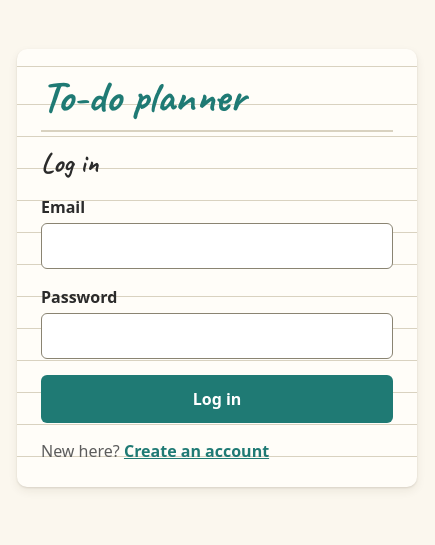
Test: US2 Log in / log out › shows a friendly message when rate limited (429)
Type "sam@example.com" into the field labelled "Email".
click(217, 246); type("sam@example.com")  # box [41,223,393,269]
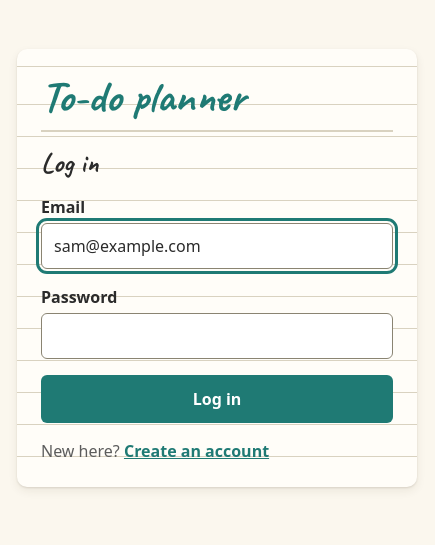
Type "x" into the password field labelled "Password".
click(217, 336); type("x")  # box [41,313,393,359]
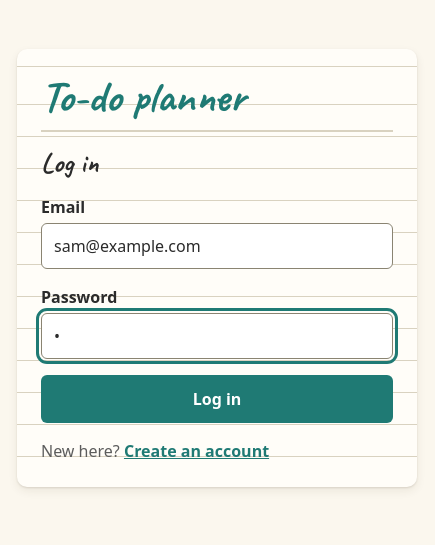
Click the button "Log in".
click(217, 399)  # box [41,375,393,423]
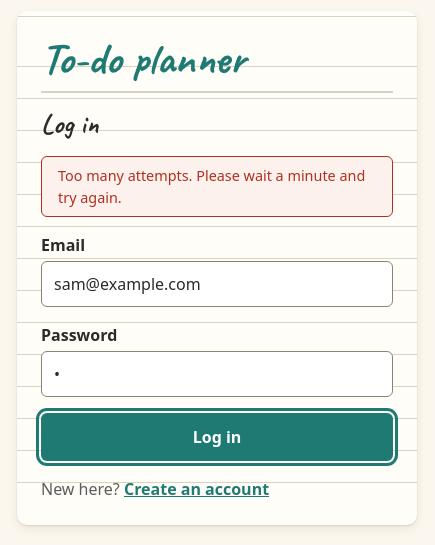
Expected: the message shows "Too many attempts", [58,166,365,207]
